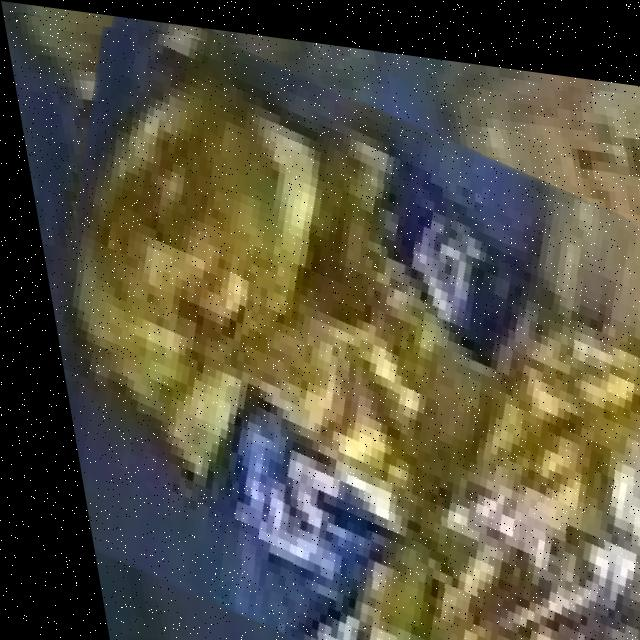can: (47, 37, 640, 640)
